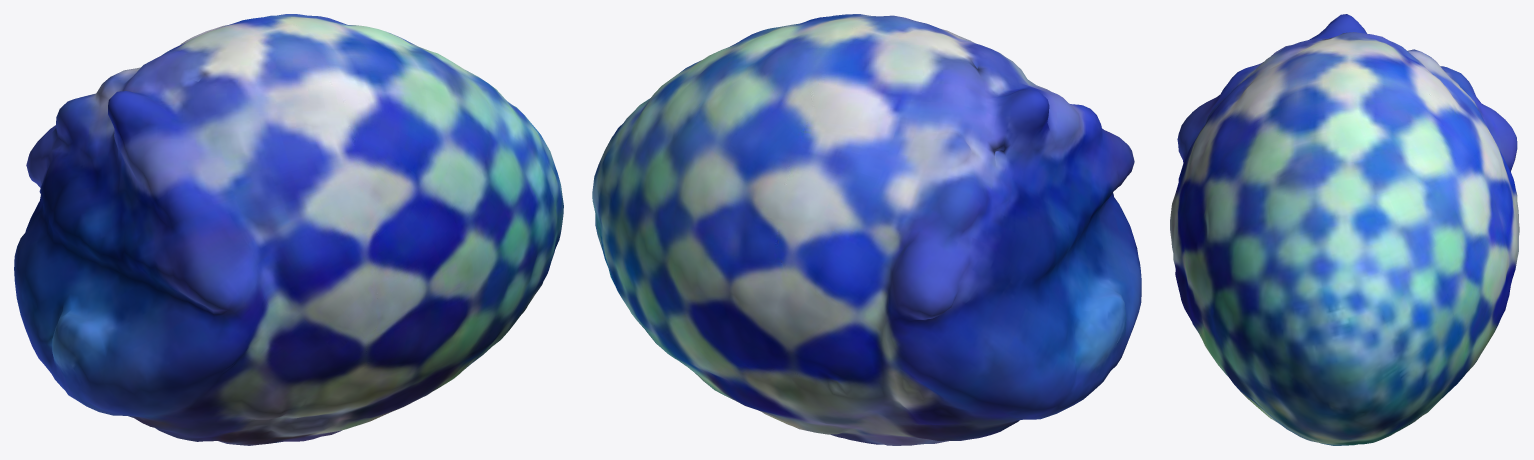
File: glb-2.glb
3 views of the same model, side by side, from view 1: azimuth 30°, elevation 25°; view 2: azimuth 150°, elevation 25°; view 3: azimuth 270°, elevation 25° (orthographic). The views are drawn at different scales.
Parts seen in each view (by area): view 1: Mesh1; view 2: Mesh1; view 3: Mesh1.
Boxes of the visible parts, x1,y1,x2,y2 form: Mesh1: (14, 14, 563, 445); Mesh1: (592, 14, 1141, 445); Mesh1: (1170, 14, 1519, 445).
Bounding box in the file's own units: 1.2 × 0.9114 × 0.8325.
Materials: 1 (1 with a texture image).
